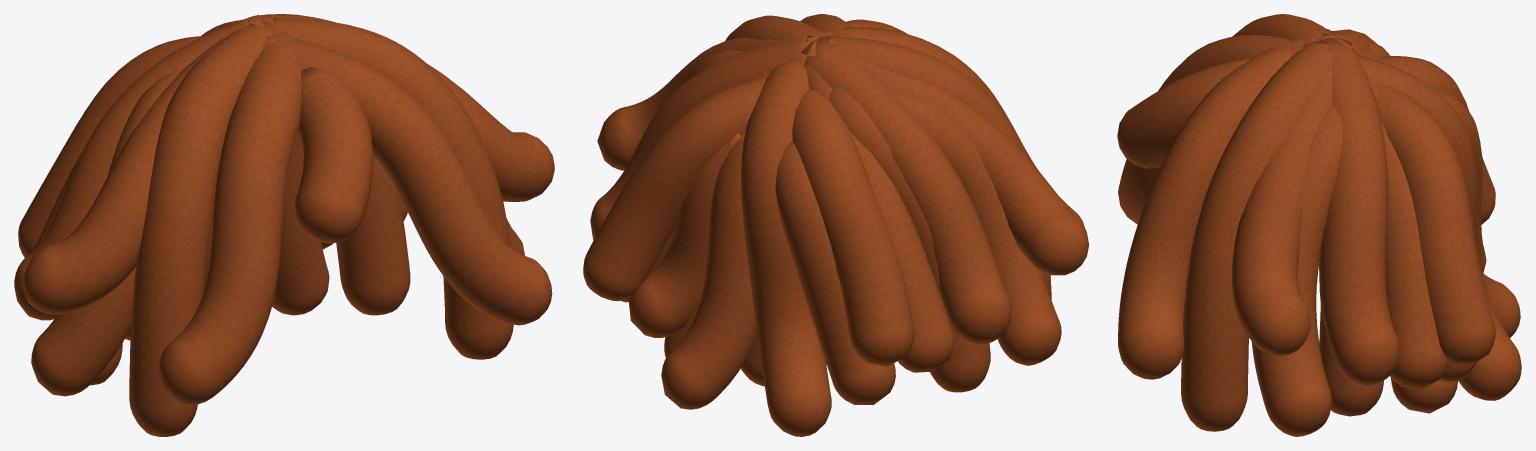
Rendered from Hair001_Painter.fbx.
The picture shows the model from 3 angles, left to right: view 1: azimuth 30°, elevation 25°; view 2: azimuth 150°, elevation 25°; view 3: azimuth 270°, elevation 25°; orthographic projection. The views are drawn at different scales.
Parts seen in each view (by area): view 1: Hair; view 2: Hair; view 3: Hair.
Part boxes in pixels (bbox=[...]): Hair: bbox=[14, 14, 554, 436]; Hair: bbox=[583, 14, 1088, 436]; Hair: bbox=[1117, 14, 1521, 436].
Bounding box in the file's own units: 163 × 105 × 114.
